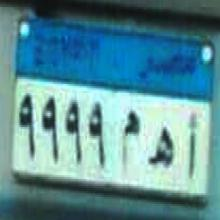9: (62, 94, 85, 171), (86, 98, 107, 173), (18, 93, 38, 169), (41, 87, 60, 165)
alif: (183, 110, 200, 185)
haa: (147, 118, 175, 175)
meem: (119, 106, 142, 172)
